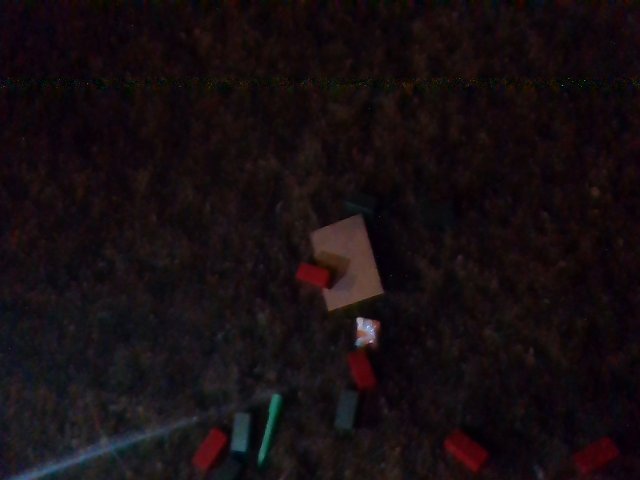Probe: (254, 382, 284, 466)
